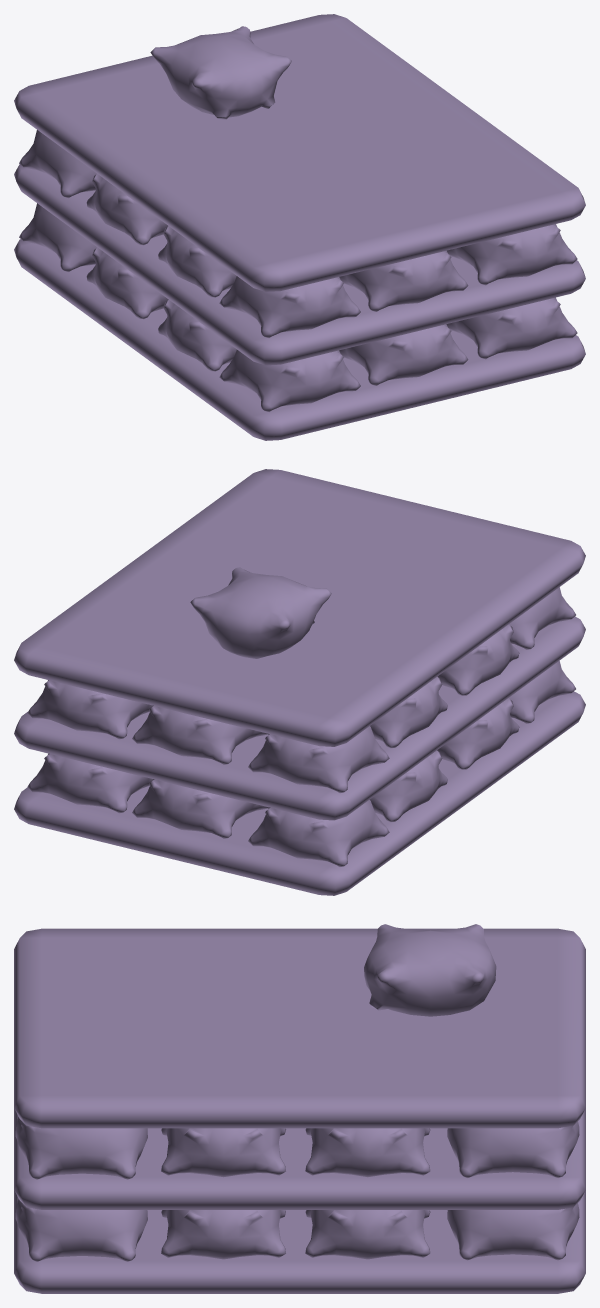
Rendered from PROPS_GOODS_MILLEFEUILLE_MODEL.fbx.
The picture shows the model from 3 angles, top to bottom: view 1: azimuth 30°, elevation 25°; view 2: azimuth 150°, elevation 25°; view 3: azimuth 270°, elevation 25°; orthographic projection. The views are drawn at different scales.
Parts seen in each view (by area): view 1: PROPS_GOODS_MILLEFEUILLE_MODEL; view 2: PROPS_GOODS_MILLEFEUILLE_MODEL; view 3: PROPS_GOODS_MILLEFEUILLE_MODEL.
Part boxes in pixels (<box>): PROPS_GOODS_MILLEFEUILLE_MODEL: <box>14,14,585,440</box>; PROPS_GOODS_MILLEFEUILLE_MODEL: <box>14,469,585,895</box>; PROPS_GOODS_MILLEFEUILLE_MODEL: <box>14,924,585,1293</box>.
Size of the model in its own units: 10.44 by 6.9 by 13.92.
